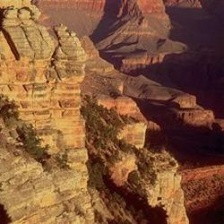neutral: (3, 2, 221, 219)
